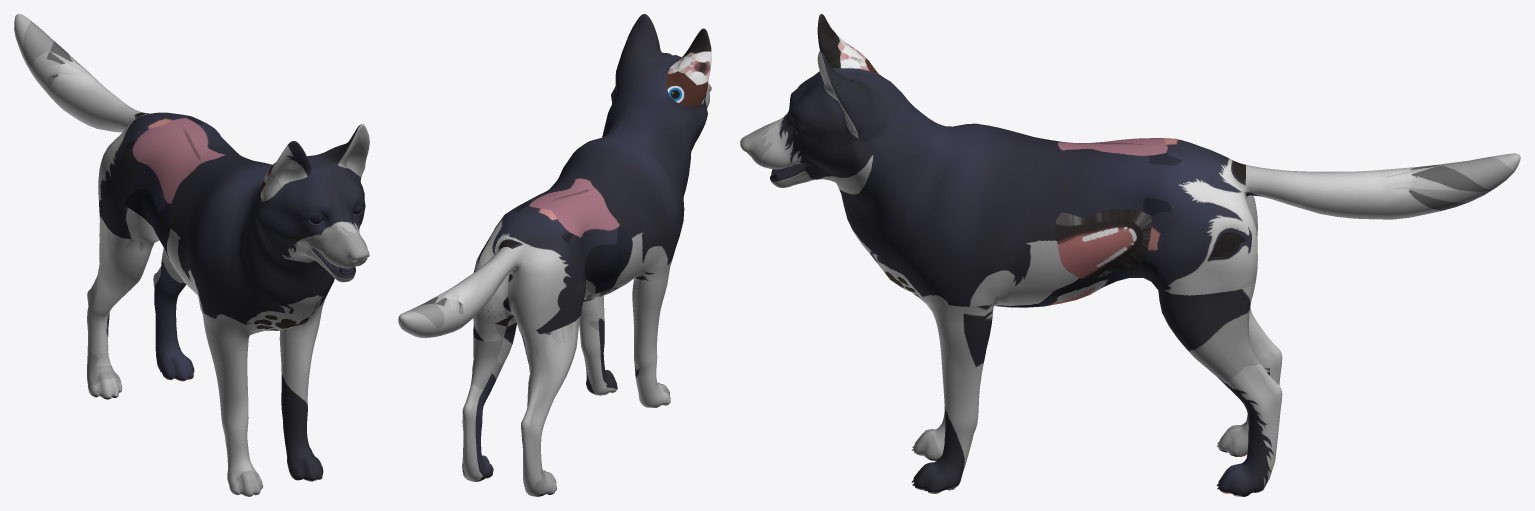
Rendered from cartoon_husky.gltf.
3 views of the same model, side by side, from view 1: azimuth 30°, elevation 25°; view 2: azimuth 150°, elevation 25°; view 3: azimuth 270°, elevation 25° (orthographic). The views are drawn at different scales.
Size of the model in its own units: 0.2421 by 0.7127 by 1.15.
Materials: 1 (1 with a texture image).
